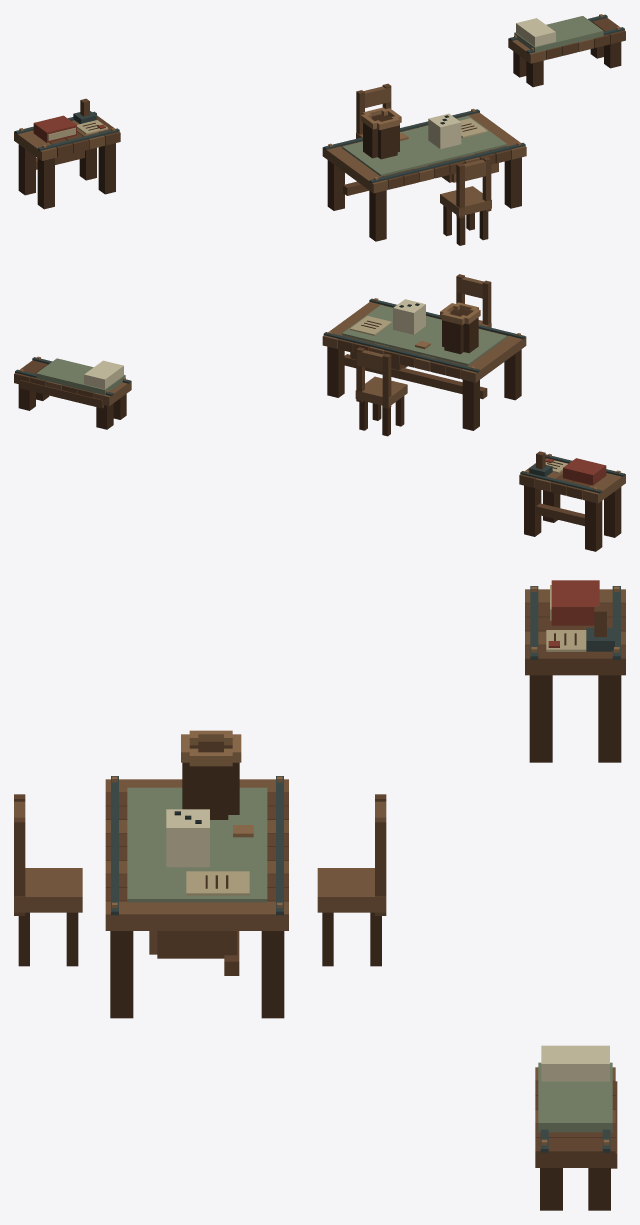
File: B44_dice.glb
3 renders of one model, top to bottom at view 1: azimuth 30°, elevation 25°; view 2: azimuth 150°, elevation 25°; view 3: azimuth 270°, elevation 25°, orthographic. The views are drawn at different scales.
Parts seen in each view (by area): view 1: B44_dice__main_station_DiceFelt_cloth, B44_dice__stake_records_TableLegs_wooddark, B44_dice__main_station_TableLegs_wooddark, B44_dice__main_station_TableTop_woodlight, B44_dice__visitors_Blanket_cloth, B44_dice__main_station_ChairBack_wood, B44_dice__visitors_TableLegs_wooddark, B44_dice__main_station_Cylinder_wooddark, B44_dice__main_station_TableTop_wood, B44_dice__main_station_TableBands_iron, B44_dice__main_station_Die_bone, B44_dice__stake_records_TableTop_woodlight (+11 smaller); view 2: B44_dice__main_station_DiceFelt_cloth, B44_dice__stake_records_TableLegs_wooddark, B44_dice__main_station_TableLegs_wooddark, B44_dice__main_station_TableTop_woodlight, B44_dice__main_station_ChairBack_wood, B44_dice__visitors_Blanket_cloth, B44_dice__main_station_Cylinder_wooddark, B44_dice__main_station_TableRail_wood, B44_dice__visitors_TableLegs_wooddark, B44_dice__main_station_TableTop_wood, B44_dice__main_station_TableBands_iron, B44_dice__main_station_Die_bone (+14 smaller); view 3: B44_dice__main_station_DiceFelt_cloth, B44_dice__main_station_TableTop_woodlight, B44_dice__main_station_Seat_woodlight, B44_dice__stake_records_TableLegs_wooddark, B44_dice__main_station_TableLegs_wooddark, B44_dice__visitors_Blanket_cloth, B44_dice__stake_records_TableTop_wood, B44_dice__main_station_Cylinder_wooddark, B44_dice__visitors_TableTop_wood, B44_dice__main_station_SeatLegs_wooddark, B44_dice__visitors_Cushion_bone, B44_dice__main_station_Die_bone (+10 smaller).
Boxes of the visible parts, left/top/right/bottom form: B44_dice__main_station_DiceFelt_cloth: left=342, top=115, right=507, bottom=176; B44_dice__stake_records_TableLegs_wooddark: left=18, top=143, right=115, bottom=209; B44_dice__main_station_TableLegs_wooddark: left=327, top=157, right=521, bottom=241; B44_dice__main_station_TableTop_woodlight: left=322, top=112, right=526, bottom=193; B44_dice__visitors_Blanket_cloth: left=514, top=16, right=603, bottom=52; B44_dice__main_station_ChairBack_wood: left=356, top=83, right=491, bottom=218; B44_dice__visitors_TableLegs_wooddark: left=513, top=42, right=621, bottom=87; B44_dice__main_station_Cylinder_wooddark: left=363, top=114, right=399, bottom=159; B44_dice__main_station_TableTop_wood: left=342, top=116, right=511, bottom=189; B44_dice__main_station_TableBands_iron: left=324, top=109, right=525, bottom=183; B44_dice__main_station_Die_bone: left=428, top=113, right=461, bottom=149; B44_dice__stake_records_TableTop_woodlight: left=14, top=120, right=104, bottom=160; B44_dice__main_station_DiceFelt_cloth: left=342, top=305, right=506, bottom=365; B44_dice__stake_records_TableLegs_wooddark: left=524, top=485, right=621, bottom=551; B44_dice__main_station_TableLegs_wooddark: left=327, top=346, right=521, bottom=430; B44_dice__main_station_TableTop_woodlight: left=322, top=302, right=526, bottom=382; B44_dice__main_station_ChairBack_wood: left=356, top=274, right=491, bottom=408; B44_dice__visitors_Blanket_cloth: left=36, top=358, right=125, bottom=395; B44_dice__main_station_Cylinder_wooddark: left=442, top=309, right=478, bottom=354; B44_dice__main_station_TableRail_wood: left=344, top=354, right=487, bottom=399; B44_dice__visitors_TableLegs_wooddark: left=18, top=384, right=126, bottom=429; B44_dice__main_station_TableTop_wood: left=338, top=305, right=507, bottom=378; B44_dice__main_station_TableBands_iron: left=323, top=298, right=525, bottom=372; B44_dice__main_station_Die_bone: left=393, top=299, right=425, bottom=334; B44_dice__main_station_DiceFelt_cloth: left=127, top=787, right=267, bottom=902; B44_dice__main_station_TableTop_woodlight: left=105, top=779, right=288, bottom=930; B44_dice__main_station_Seat_woodlight: left=14, top=868, right=386, bottom=912; B44_dice__stake_records_TableLegs_wooddark: left=529, top=675, right=621, bottom=762; B44_dice__main_station_TableLegs_wooddark: left=110, top=931, right=284, bottom=1018; B44_dice__visitors_Blanket_cloth: left=538, top=1062, right=612, bottom=1132; B44_dice__stake_records_TableTop_wood: left=525, top=603, right=625, bottom=675; B44_dice__main_station_Cylinder_wooddark: left=182, top=741, right=239, bottom=819; B44_dice__visitors_TableTop_wood: left=535, top=1081, right=615, bottom=1167; B44_dice__main_station_SeatLegs_wooddark: left=18, top=912, right=381, bottom=966; B44_dice__visitors_Cushion_bone: left=541, top=1045, right=609, bottom=1081; B44_dice__main_station_Die_bone: left=166, top=809, right=209, bottom=867.
Size of the model in its own units: 10.7 by 1.69 by 5.34.
